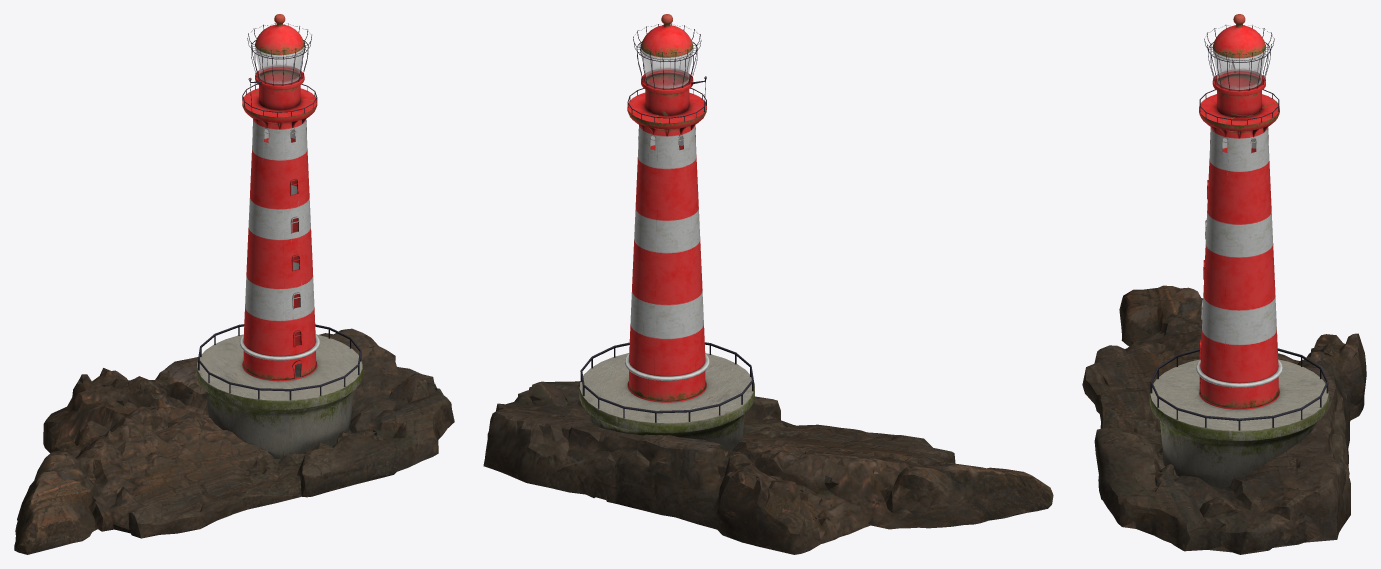
File: lighthouse _rock.glb
3 renders of one model, left to right at view 1: azimuth 30°, elevation 25°; view 2: azimuth 150°, elevation 25°; view 3: azimuth 270°, elevation 25°, orthographic. The views are drawn at different scales.
Parts seen in each view (by area): view 1: Lighthouse; view 2: Lighthouse; view 3: Lighthouse.
Boxes of the visible parts, <box> form: Lighthouse: <box>14,14,454,554</box>; Lighthouse: <box>483,14,1053,554</box>; Lighthouse: <box>1082,14,1366,554</box>.
Bounding box in the file's own units: 85.28 × 73.96 × 41.36.
Materials: 4 (4 with a texture image).
